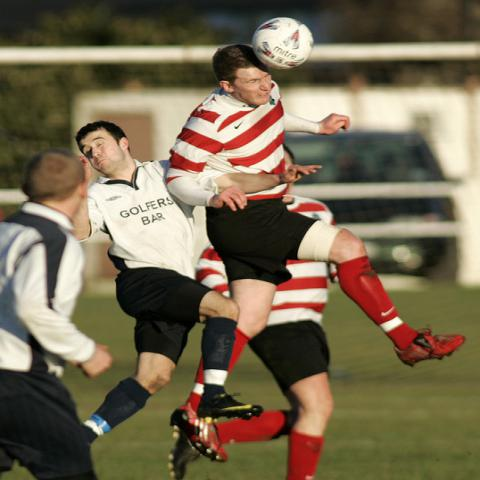car: (285, 130, 454, 274)
